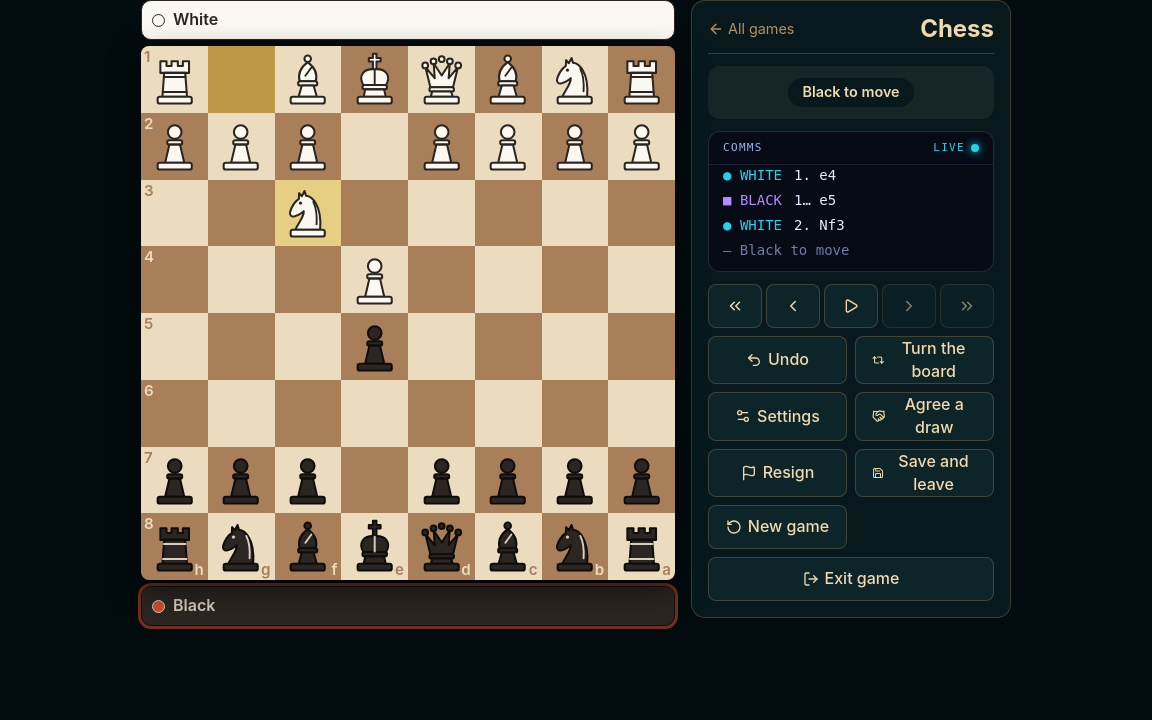
Test: playing a game back › a game in play steps back to its first position and forward again, without losing a move
(page scrolled)
Expected: the button named "Forward" is disabled, top-left (882, 284), bottom-right (936, 328)
Click the button named "Back": point(793, 306) top-left (766, 284), bottom-right (820, 328)
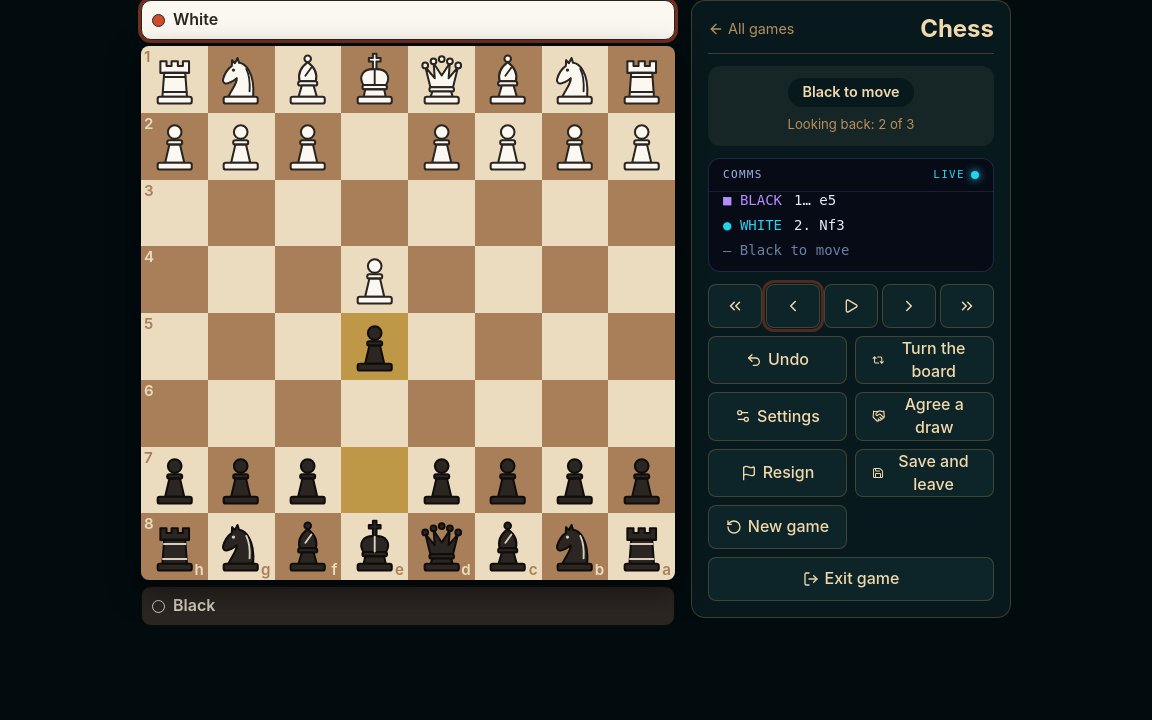
Expected: the text "Looking back: 2 of 3" is shown, top-left (788, 115), bottom-right (914, 134)
Click the button named "Back": point(793, 306) top-left (766, 284), bottom-right (820, 328)
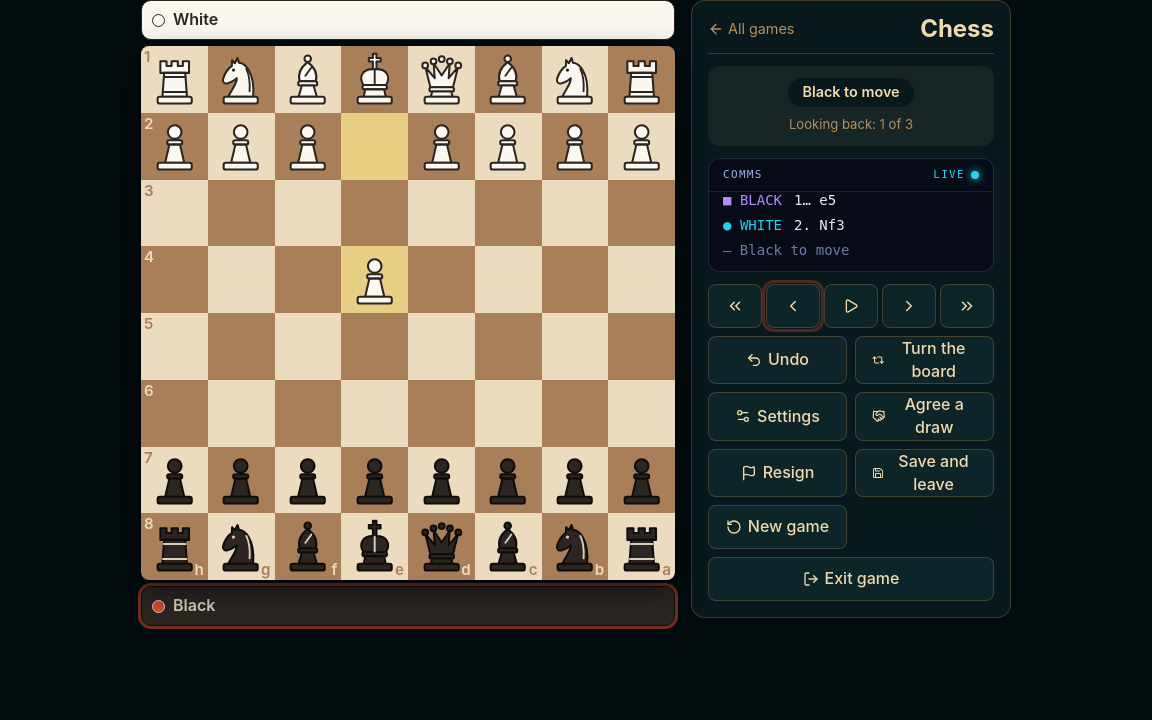
Click the button named "Back": point(793, 306) top-left (766, 284), bottom-right (820, 328)
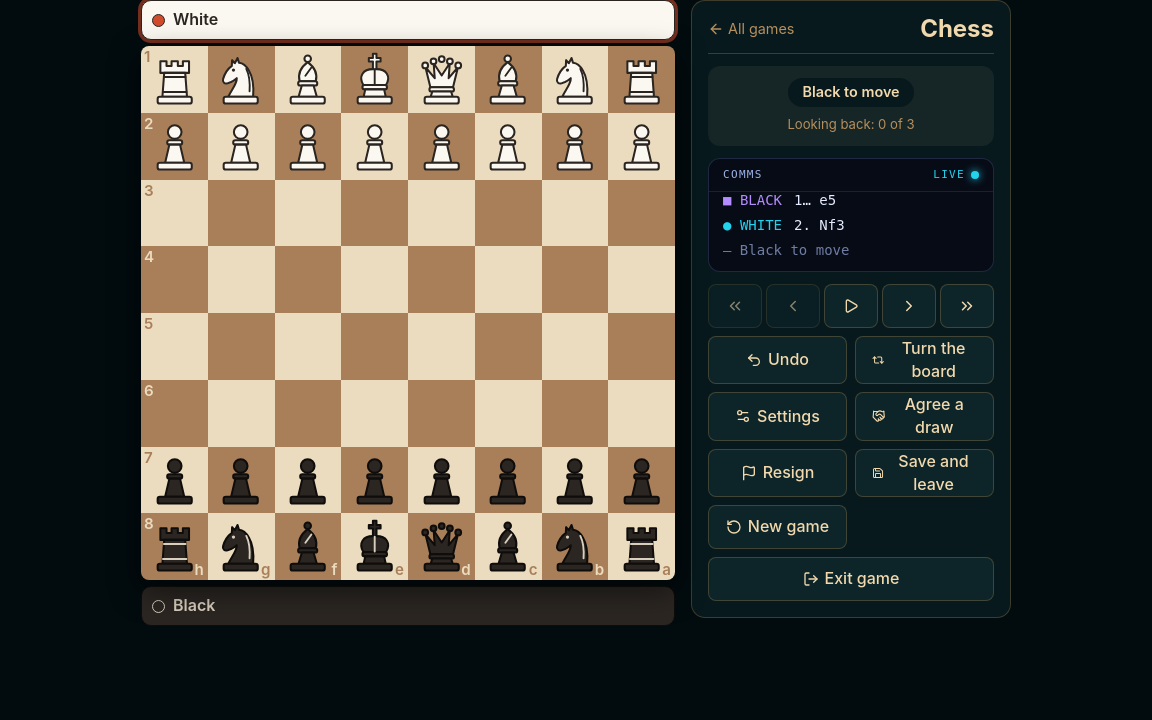
Expected: the text "Looking back: 0 of 3" is shown, top-left (788, 115), bottom-right (915, 134)
# An earlier position is only looked at: tapping a piece picks nothing up.
Click the button named "e2, White pawn": point(375, 146) top-left (341, 113), bottom-right (408, 180)
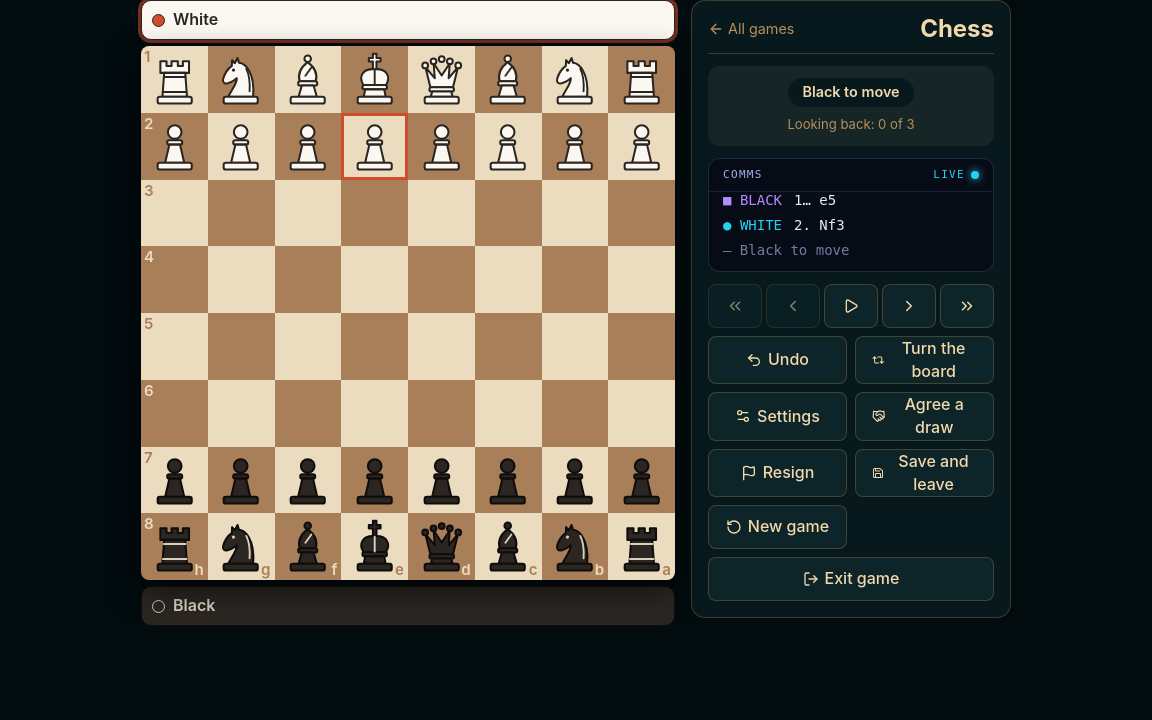
Click the button named "End": point(967, 306) top-left (940, 284), bottom-right (994, 328)
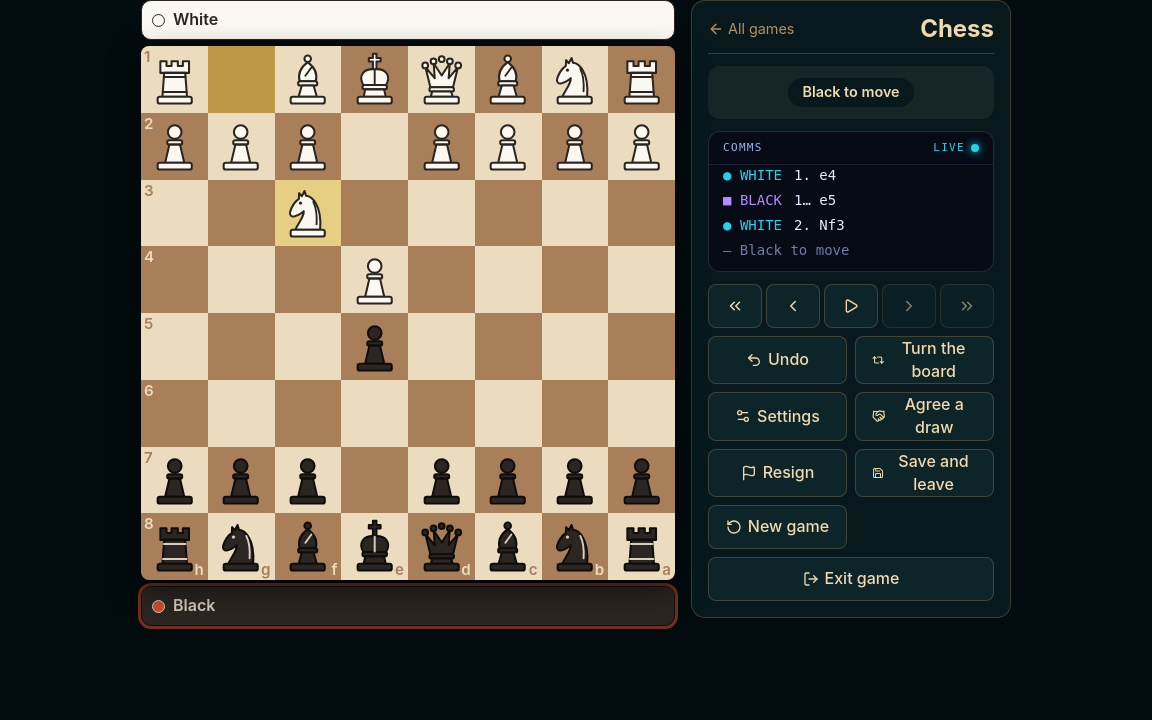
Expected: the text "Looking back" is gone
